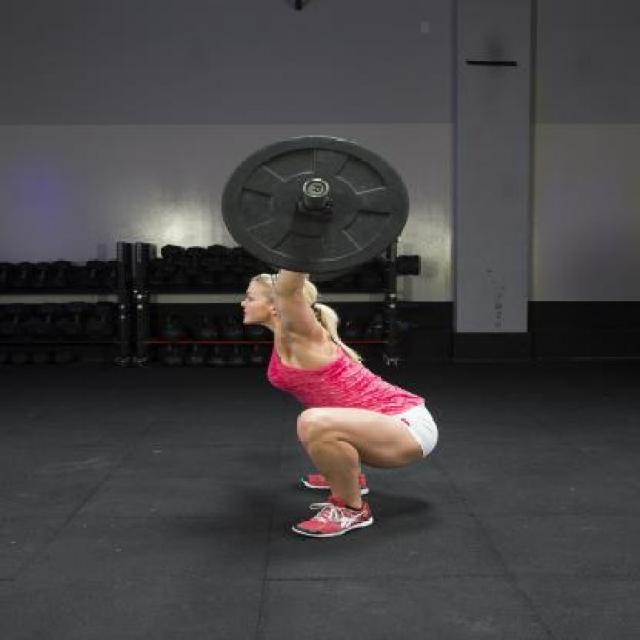Barbell: (300, 176, 334, 198)
